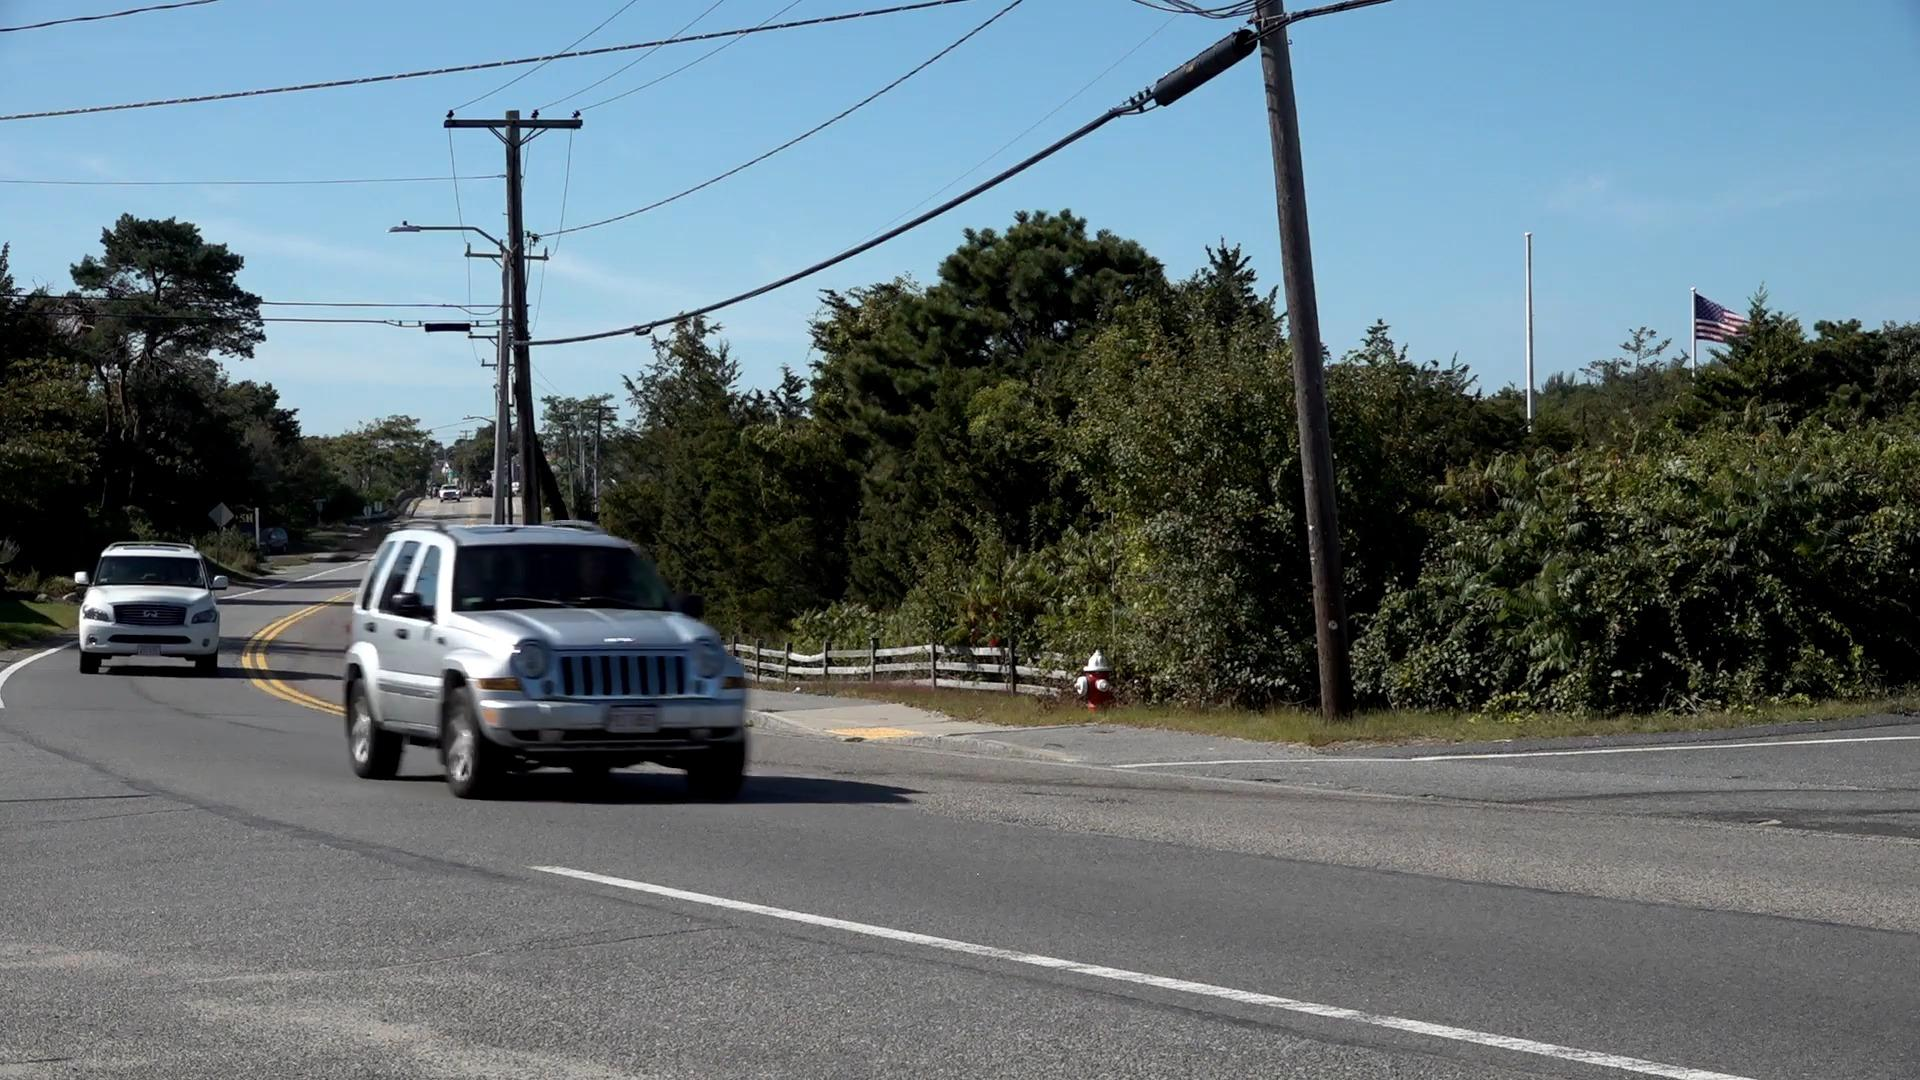suv: (350, 519, 753, 793), (74, 541, 226, 673)
